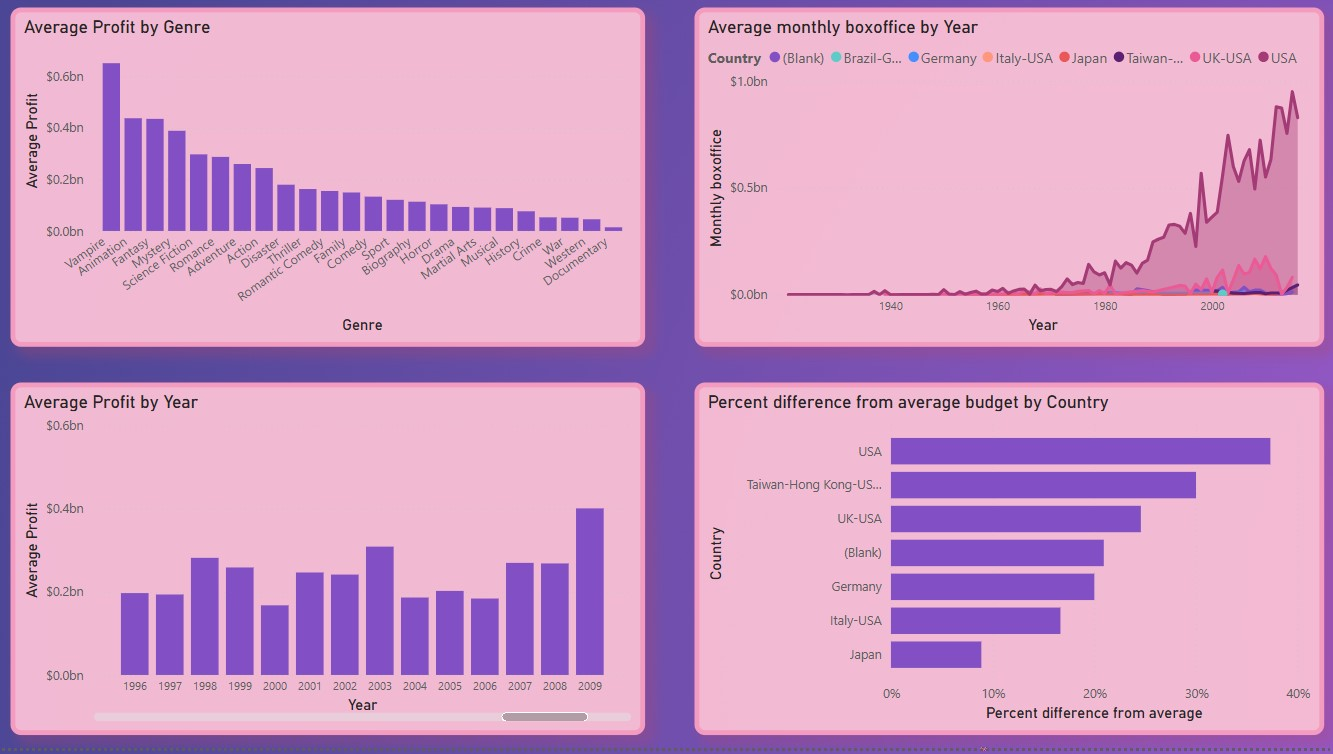

This screenshot's page, from the dashboard's own definition file:
{"tool":"powerbi","page":{"name":"Boxoffice and Profit","canvas":[1280,720],"ordinal":1},"visuals":[{"type":"columnChart","fields":{"Category":["Films.ReleaseDate.Variation.Date Hierarchy.Year"],"Y":["Avg(Films.Profit)"]},"box":[0,370.9,616.5,349.7],"z":0},{"type":"columnChart","fields":{"Category":["Genre.Genre"],"Y":["Avg(Films.Profit)"]},"box":[0,0,616.5,336.7],"z":1000},{"type":"areaChart","title":"Average monthly boxoffice by Year","fields":{"Category":["Films.ReleaseDate.Variation.Date Hierarchy.Year"],"Y":["Films.Average month boxoffice"],"Series":["Countries.Country"]},"box":[663.6,0,616.5,336.7],"z":2000},{"type":"clusteredBarChart","title":"Percent difference from average budget by Country","fields":{"Category":["Countries.Country"],"Y":["Films.%morethanAverage"]},"box":[663.6,370.9,616.5,349.7],"z":3000}]}

Visuals, with their boxes in screenshot pixels (x1, y1, x2, y2), scaled from the page's 1280x720 canvas onto the 1333x754 screenshot:
columnChart - Films.ReleaseDate.Variation.Date Hierarchy.Year x Avg(Films.Profit): bbox=[0, 388, 642, 753]
columnChart - Genre.Genre x Avg(Films.Profit): bbox=[0, 0, 642, 353]
"Average monthly boxoffice by Year" areaChart: bbox=[691, 0, 1332, 353]
"Percent difference from average budget by Country" clusteredBarChart: bbox=[691, 388, 1332, 753]
